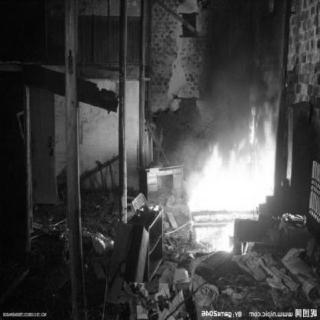Fire: (183, 106, 279, 254), (286, 140, 296, 184), (147, 192, 163, 212)
Smoke: (199, 18, 265, 110)
other: (148, 161, 168, 187)
